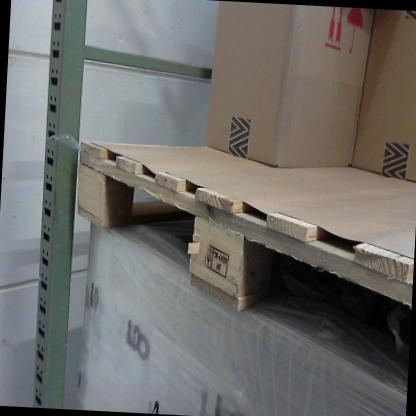pallet: (70, 115, 416, 335)
